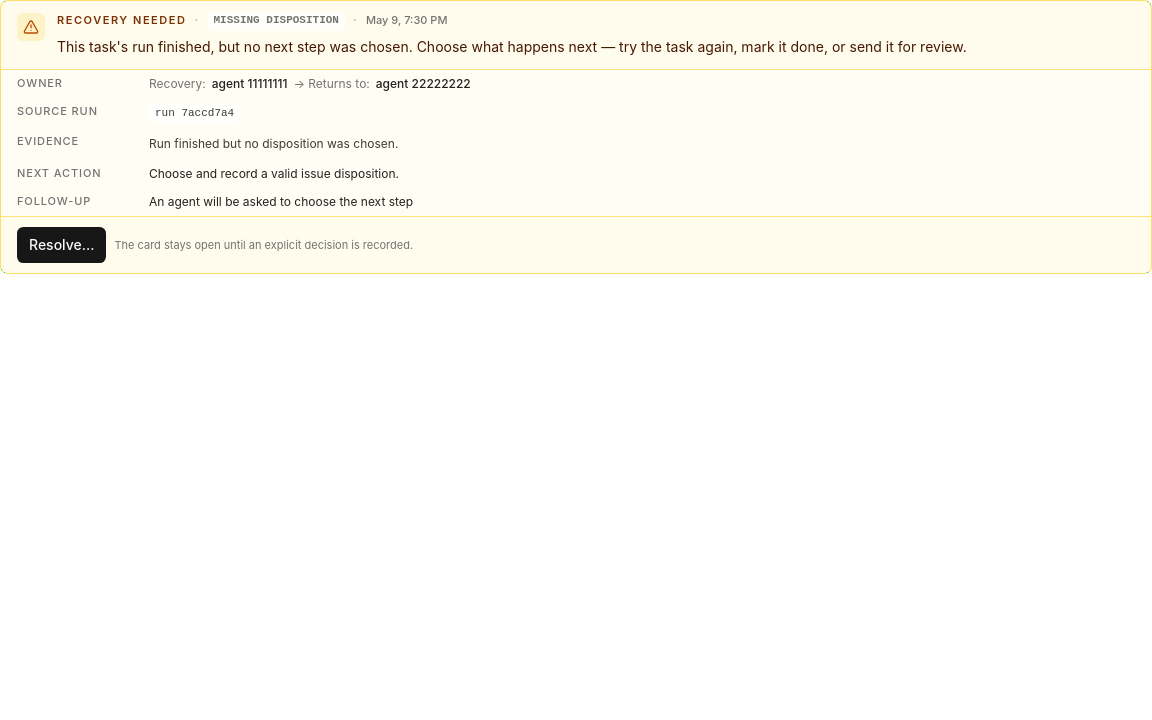
IssueRecoveryActionCard › does not offer blocked recovery resolution without a blocker selection flow
This screenshot has width=1152, height=720.
Click the button with test id "recovery-action-resolve-trigger".
click(62, 245)  # box [17,227,106,263]
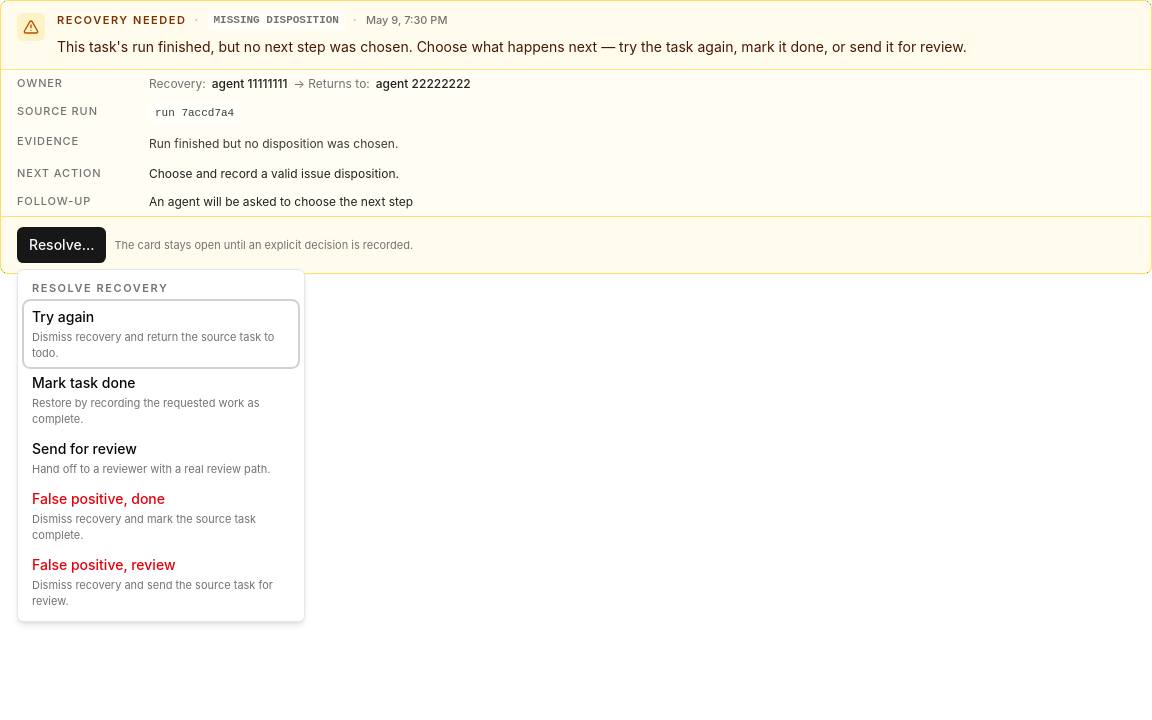
Now the text "Try again" is shown, box [32,306,94,326]
Now the text "Mark task done" is shown, box [32,372,136,392]
Now the text "Send for review" is shown, box [32,438,137,458]
